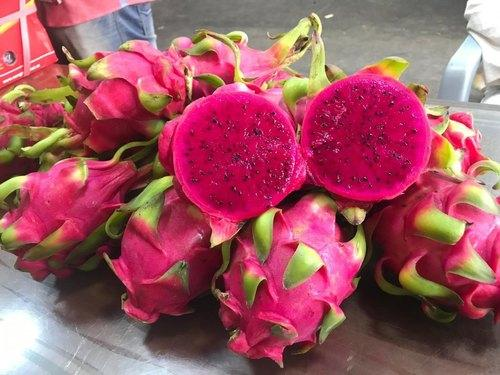thanh_long: (228, 193, 359, 364), (5, 156, 133, 278), (69, 43, 189, 143)
